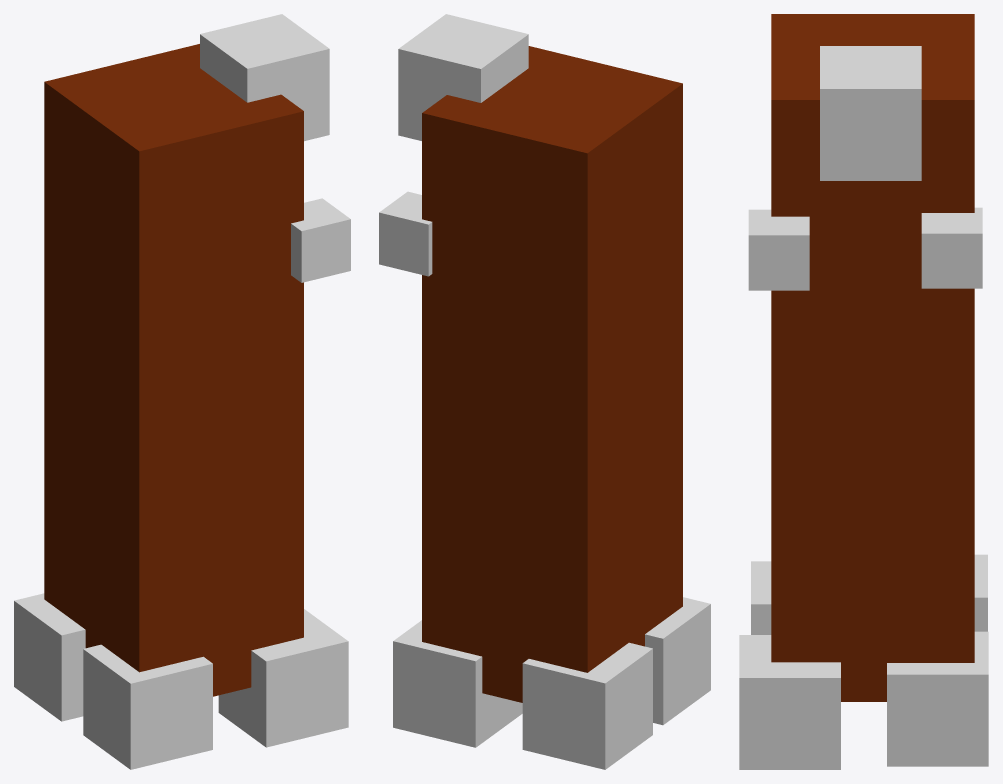
File: big.dae
3 views of the same model, side by side, from view 1: azimuth 30°, elevation 25°; view 2: azimuth 150°, elevation 25°; view 3: azimuth 270°, elevation 25° (orthographic). The views are drawn at different scales.
Parts seen in each view (by area): view 1: Cube, Cube.005, Cube.002, Cube.001, Cube.004, Cube.007; view 2: Cube, Cube.004, Cube.001, Cube.003, Cube.005, Cube.006; view 3: Cube, Cube.001, Cube.002, Cube.003, Cube.007, Cube.006, Cube.005, Cube.004.
Part boxes in pixels (box(x1,y1,x2,y2)): Cube: box(44, 44, 303, 696); Cube.005: box(83, 644, 212, 769); Cube.002: box(218, 609, 348, 747); Cube.001: box(200, 14, 329, 141); Cube.004: box(14, 593, 85, 721); Cube.007: box(291, 198, 350, 282); Cube: box(422, 46, 682, 702); Cube.004: box(522, 642, 652, 769); Cube.001: box(398, 14, 528, 140); Cube.003: box(393, 620, 522, 747); Cube.005: box(645, 597, 710, 725); Cube.006: box(379, 191, 432, 276); Cube: box(771, 14, 974, 701); Cube.001: box(820, 46, 921, 180); Cube.002: box(739, 635, 840, 769); Cube.003: box(887, 631, 988, 766); Cube.007: box(748, 209, 809, 290); Cube.006: box(921, 207, 982, 288); Cube.005: box(751, 561, 771, 634); Cube.004: box(974, 554, 987, 631).
Bounding box in the file's own units: 2.88 × 2.45 × 7.5.
